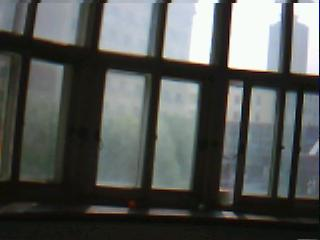oball: (127, 199, 136, 207)
